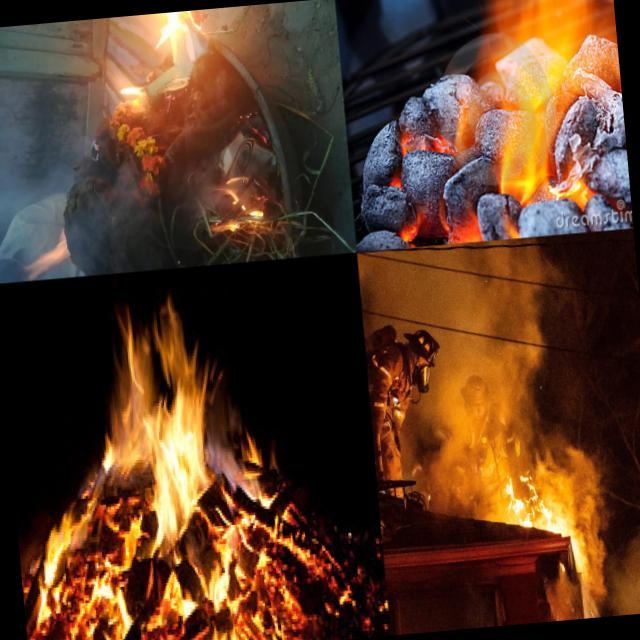fire: (4, 282, 302, 629), (372, 0, 633, 246), (516, 480, 598, 596), (132, 234, 188, 272), (98, 192, 118, 241)
smoke: (431, 234, 570, 426), (437, 412, 624, 496), (0, 22, 70, 236), (598, 512, 640, 616), (541, 590, 606, 622)
